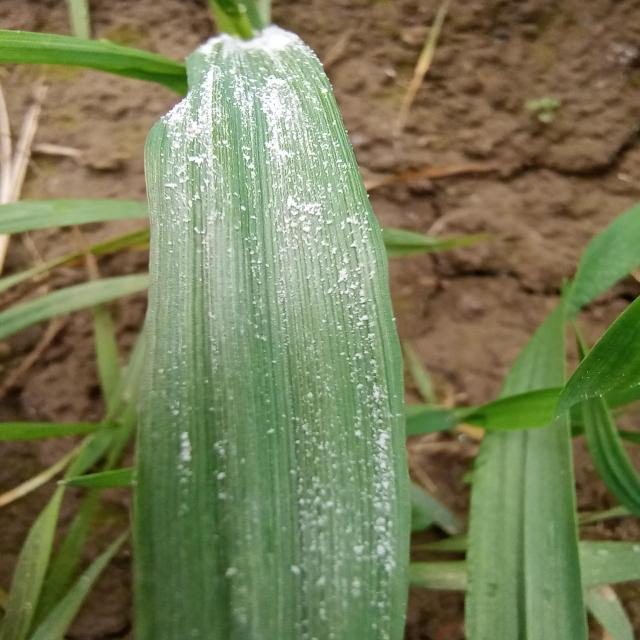Powdery Mildew: (140, 53, 375, 623)
